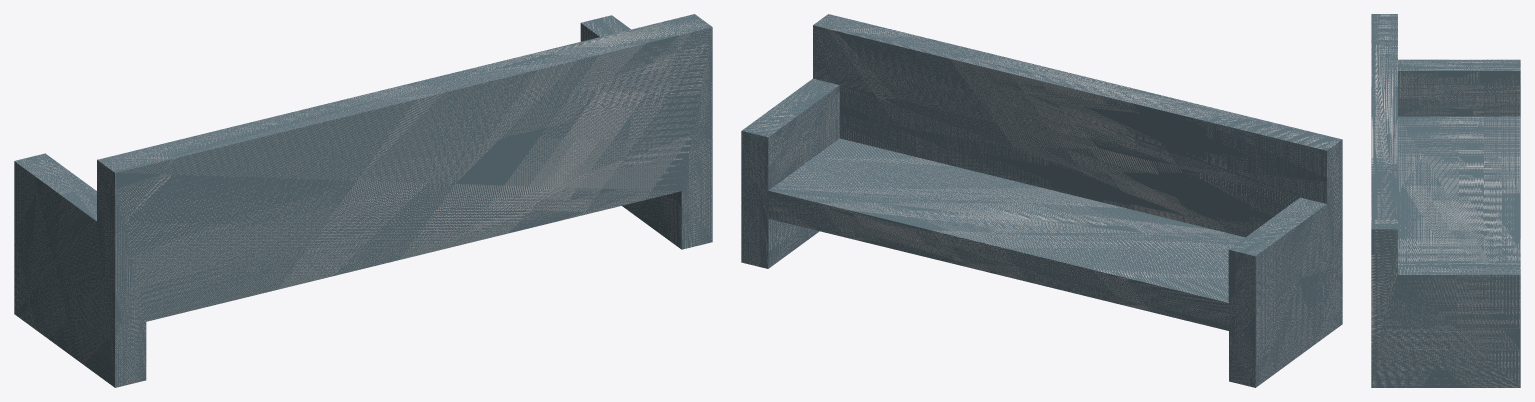
The picture shows the model from 3 angles, left to right: view 1: azimuth 30°, elevation 25°; view 2: azimuth 150°, elevation 25°; view 3: azimuth 270°, elevation 25°; orthographic projection. The views are drawn at different scales.
Visible parts, largest first — view 1: mesh1_mesh1-geometry; view 2: mesh1_mesh1-geometry; view 3: mesh1_mesh1-geometry.
Part boxes in pixels (box(x1,y1,x2,y2)): mesh1_mesh1-geometry: box(14, 14, 712, 387); mesh1_mesh1-geometry: box(741, 14, 1342, 387); mesh1_mesh1-geometry: box(1371, 14, 1520, 387).
Size of the model in its own units: 0.9114 by 0.3133 by 0.2667.
